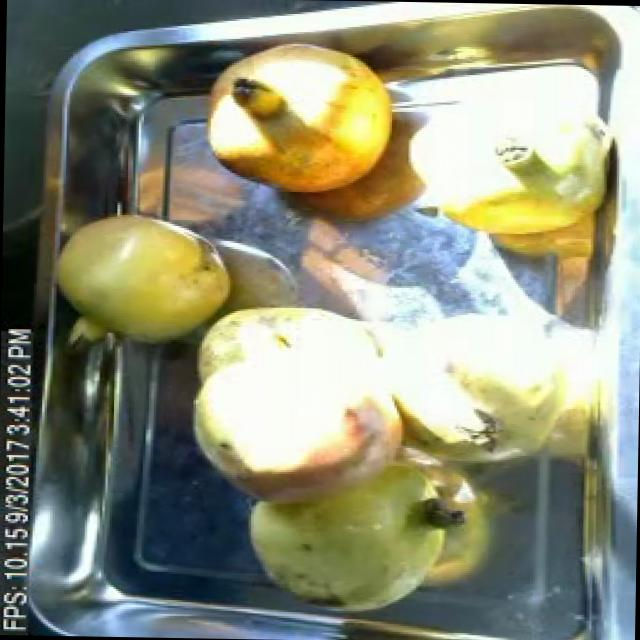fruit: (170, 288, 427, 532), (398, 90, 627, 268), (198, 34, 407, 205), (414, 288, 596, 477), (46, 202, 243, 356)
